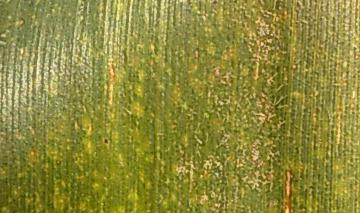tarspot: (100, 135, 111, 148)
